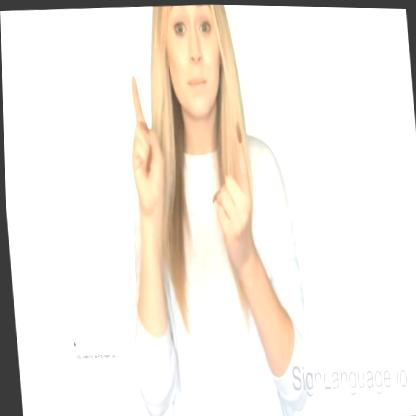NiceToMeetYou: (120, 63, 256, 273)
